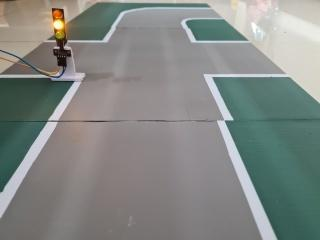yellow: (41, 1, 77, 49)
